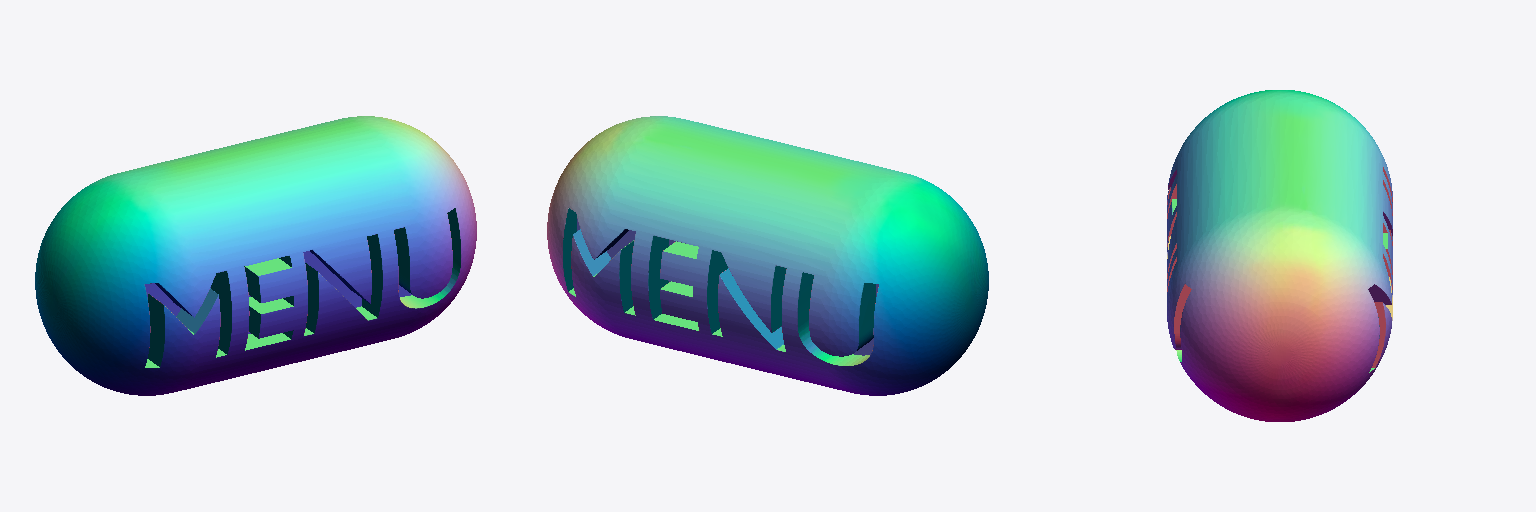
3 renders of one model, left to right at view 1: azimuth 30°, elevation 25°; view 2: azimuth 150°, elevation 25°; view 3: azimuth 270°, elevation 25°, orthographic.
Visible parts, largest first — view 1: Pill.001; view 2: Pill.001; view 3: Pill.001.
Part boxes in pixels (left/top/right/bottom): Pill.001: left=35, top=116, right=476, bottom=395; Pill.001: left=547, top=116, right=988, bottom=395; Pill.001: left=1167, top=90, right=1392, bottom=421.
Size of the model in its own units: 3.37 by 1.62 by 1.62.
1 materials, 1 textured.